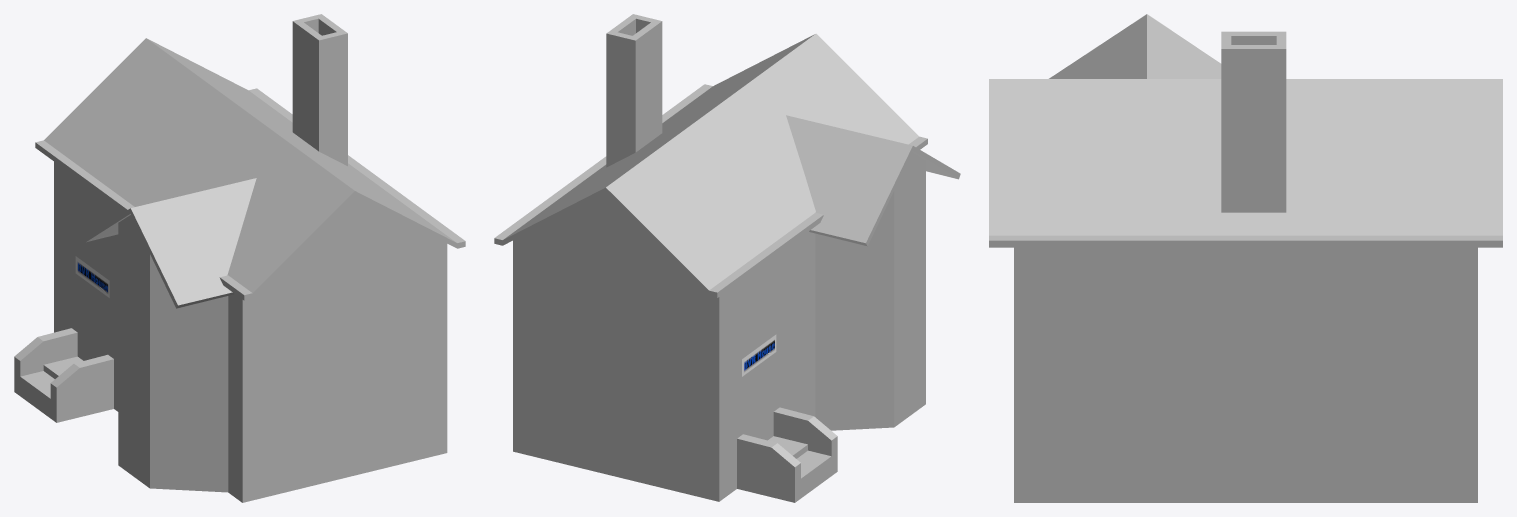
File: BVR House_London Town Zone_static.FBX
The picture shows the model from 3 angles, left to right: view 1: azimuth 30°, elevation 25°; view 2: azimuth 150°, elevation 25°; view 3: azimuth 270°, elevation 25°; orthographic projection. The views are drawn at different scales.
Visible parts, largest first — view 1: BVR House_London Town Zone_static; view 2: BVR House_London Town Zone_static; view 3: BVR House_London Town Zone_static.
Part boxes in pixels (box(x1,y1,x2,y2)): BVR House_London Town Zone_static: box(14, 14, 465, 502); BVR House_London Town Zone_static: box(494, 14, 960, 502); BVR House_London Town Zone_static: box(989, 14, 1502, 502).
Size of the model in its own units: 3.2 by 4.09 by 4.28.
